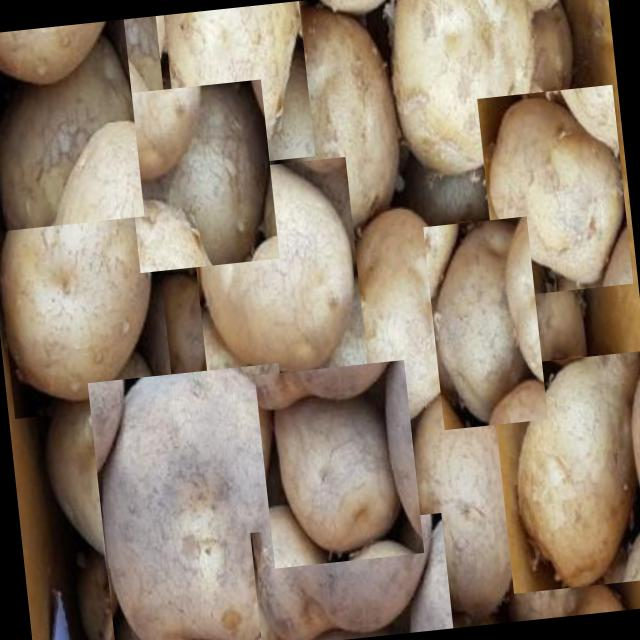Potato: (87, 362, 307, 640), (0, 147, 174, 418), (186, 156, 368, 388), (391, 374, 538, 628), (490, 350, 640, 593), (254, 360, 423, 568), (477, 85, 633, 298), (379, 0, 554, 185), (0, 19, 144, 232), (122, 79, 280, 272), (343, 202, 472, 426), (278, 14, 404, 230), (422, 216, 548, 430), (250, 512, 453, 640), (163, 1, 315, 170), (28, 15, 166, 126)
